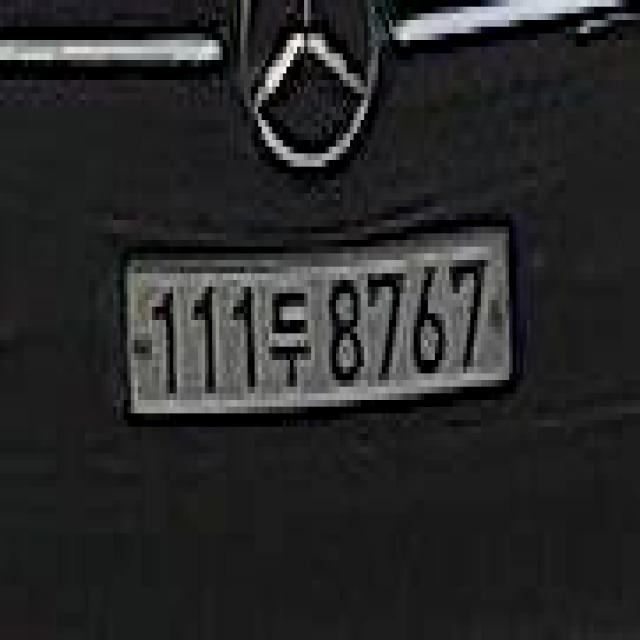illegal_plate: (118, 224, 522, 433)
